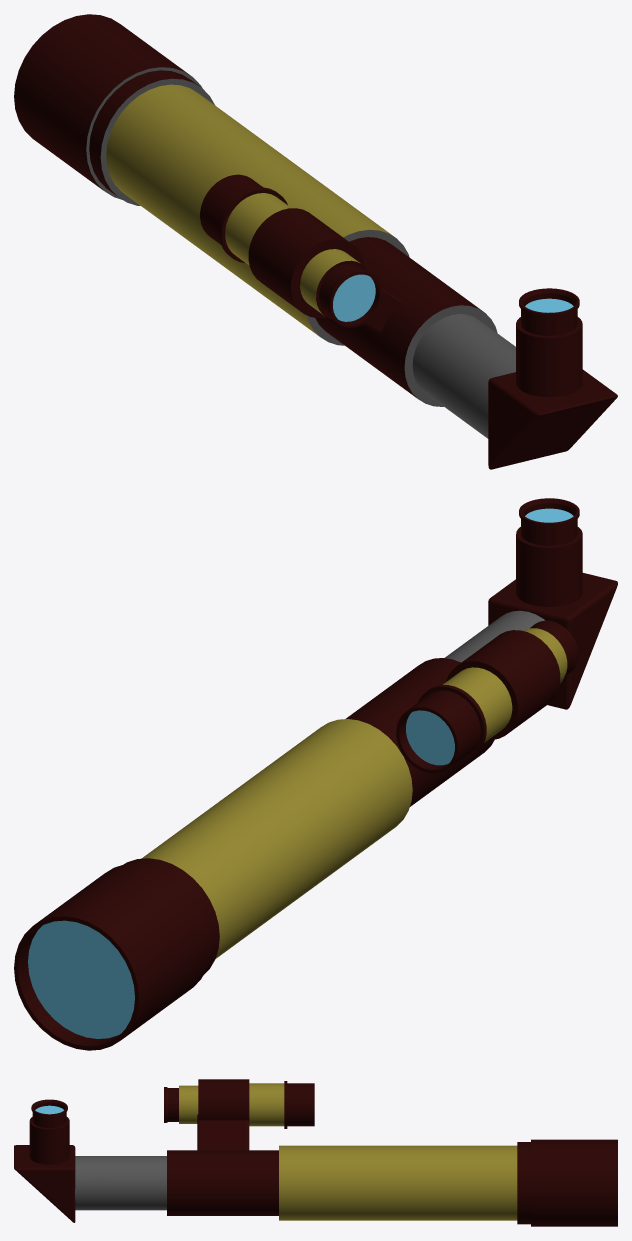
The model's file is Telescope (1).fbx.
3 views of the same model, one above another, from view 1: azimuth 30°, elevation 25°; view 2: azimuth 150°, elevation 25°; view 3: azimuth 270°, elevation 25° (orthographic). The views are drawn at different scales.
Parts seen in each view (by area): view 1: Cylinder, Cylinder.002, Cube, Cylinder.001, Cube.001; view 2: Cylinder, Cylinder.002, Cylinder.001, Cube; view 3: Cylinder, Cylinder.002, Cube, Cylinder.001, Cube.001.
Part boxes in pixels (x1,y1,x2,y2): Cylinder: (14, 14, 515, 438); Cylinder.002: (200, 174, 382, 327); Cube: (488, 369, 617, 469); Cylinder.001: (516, 288, 582, 396); Cube.001: (364, 285, 400, 333); Cylinder: (14, 610, 564, 1050); Cylinder.002: (396, 620, 578, 773); Cylinder.001: (516, 498, 582, 606); Cube: (488, 573, 617, 709); Cylinder: (75, 1139, 617, 1226); Cylinder.002: (164, 1079, 314, 1128); Cube: (14, 1145, 75, 1222); Cylinder.001: (29, 1099, 69, 1164); Cube.001: (197, 1114, 249, 1150).
Bounding box in the file's own units: 315 × 293 × 1391.
